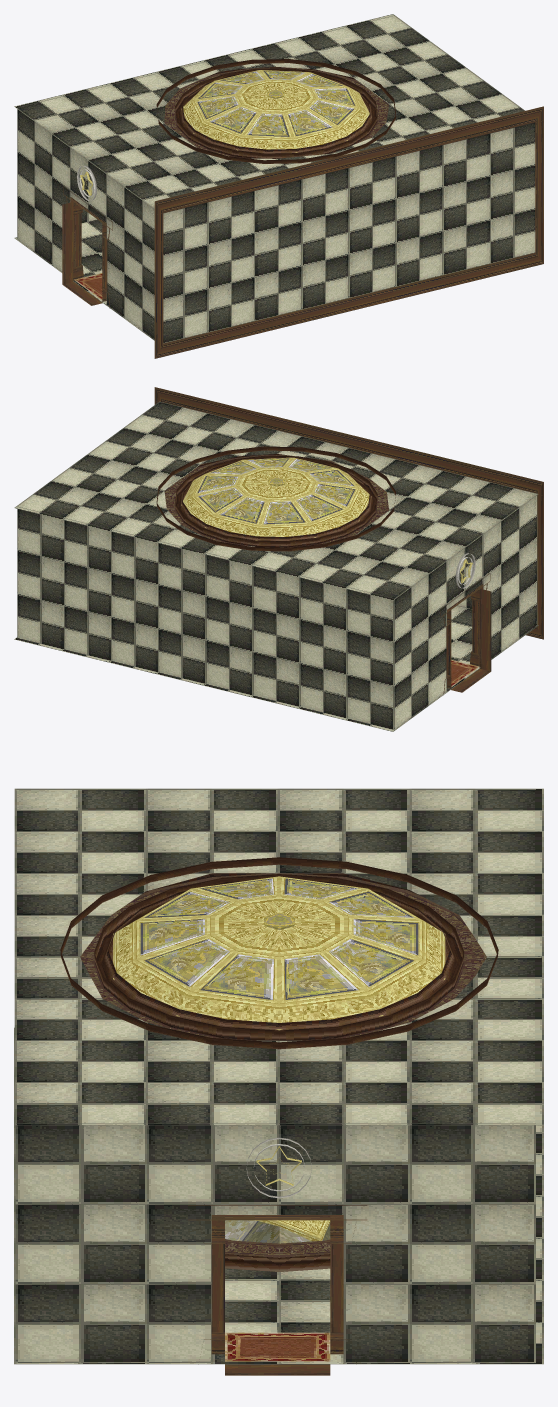
The model's file is room_40.glb.
3 renders of one model, top to bottom at view 1: azimuth 30°, elevation 25°; view 2: azimuth 150°, elevation 25°; view 3: azimuth 270°, elevation 25°, orthographic. The views are drawn at different scales.
Parts seen in each view (by area): view 1: room_40; view 2: room_40; view 3: room_40.
Part boxes in pixels (x1=…): room_40: x1=14, y1=14, x2=543, y2=358; room_40: x1=14, y1=387, x2=543, y2=731; room_40: x1=14, y1=788, x2=543, y2=1375.
Bounding box in the file's own units: 1591 × 630 × 1005.
14 materials, 14 textured.
